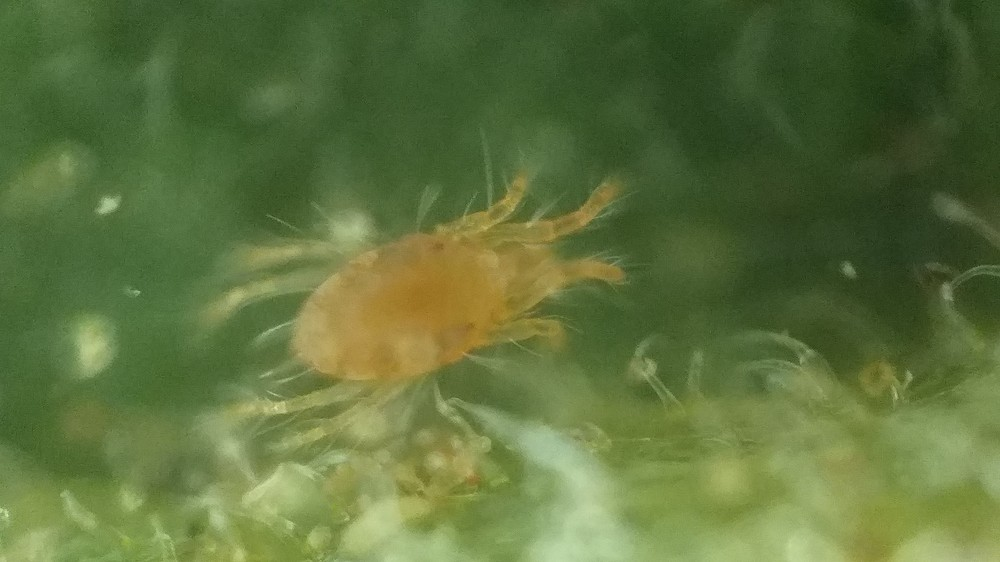Aracnido Rojo: (211, 143, 664, 458)
